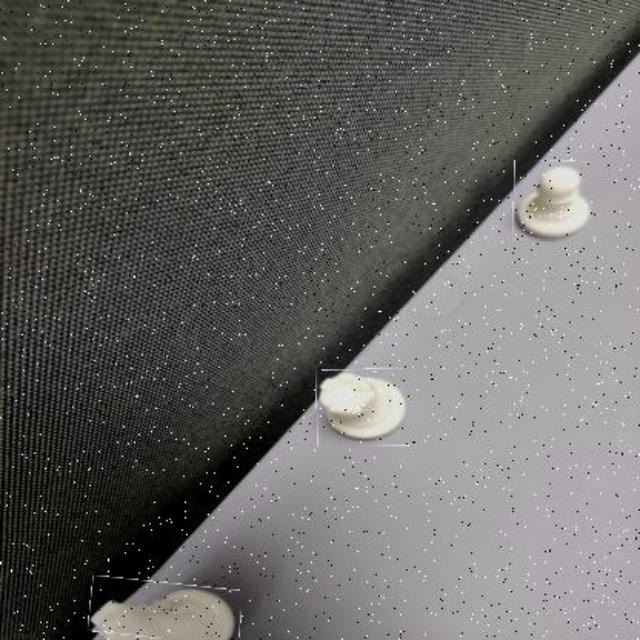white-knight: (90, 578, 242, 638)
white-pawn: (513, 161, 593, 242)
white-rook: (316, 369, 414, 447)
